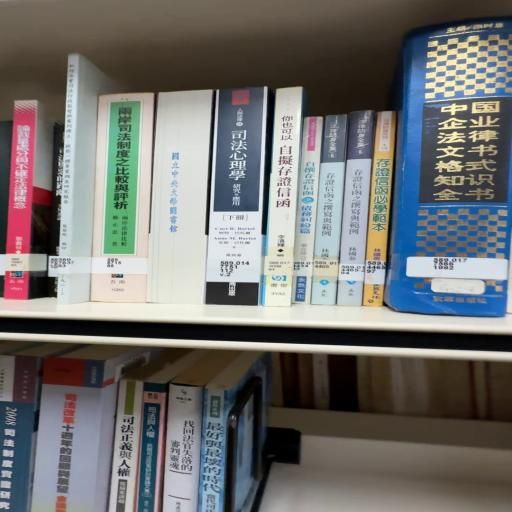backward: (154, 93, 220, 311)
book: (387, 18, 512, 323), (207, 91, 272, 313), (266, 84, 312, 307), (161, 383, 205, 512), (7, 102, 38, 259), (107, 380, 143, 512), (139, 385, 171, 512)
